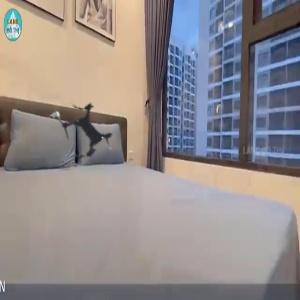drone: (33, 81, 136, 184)
